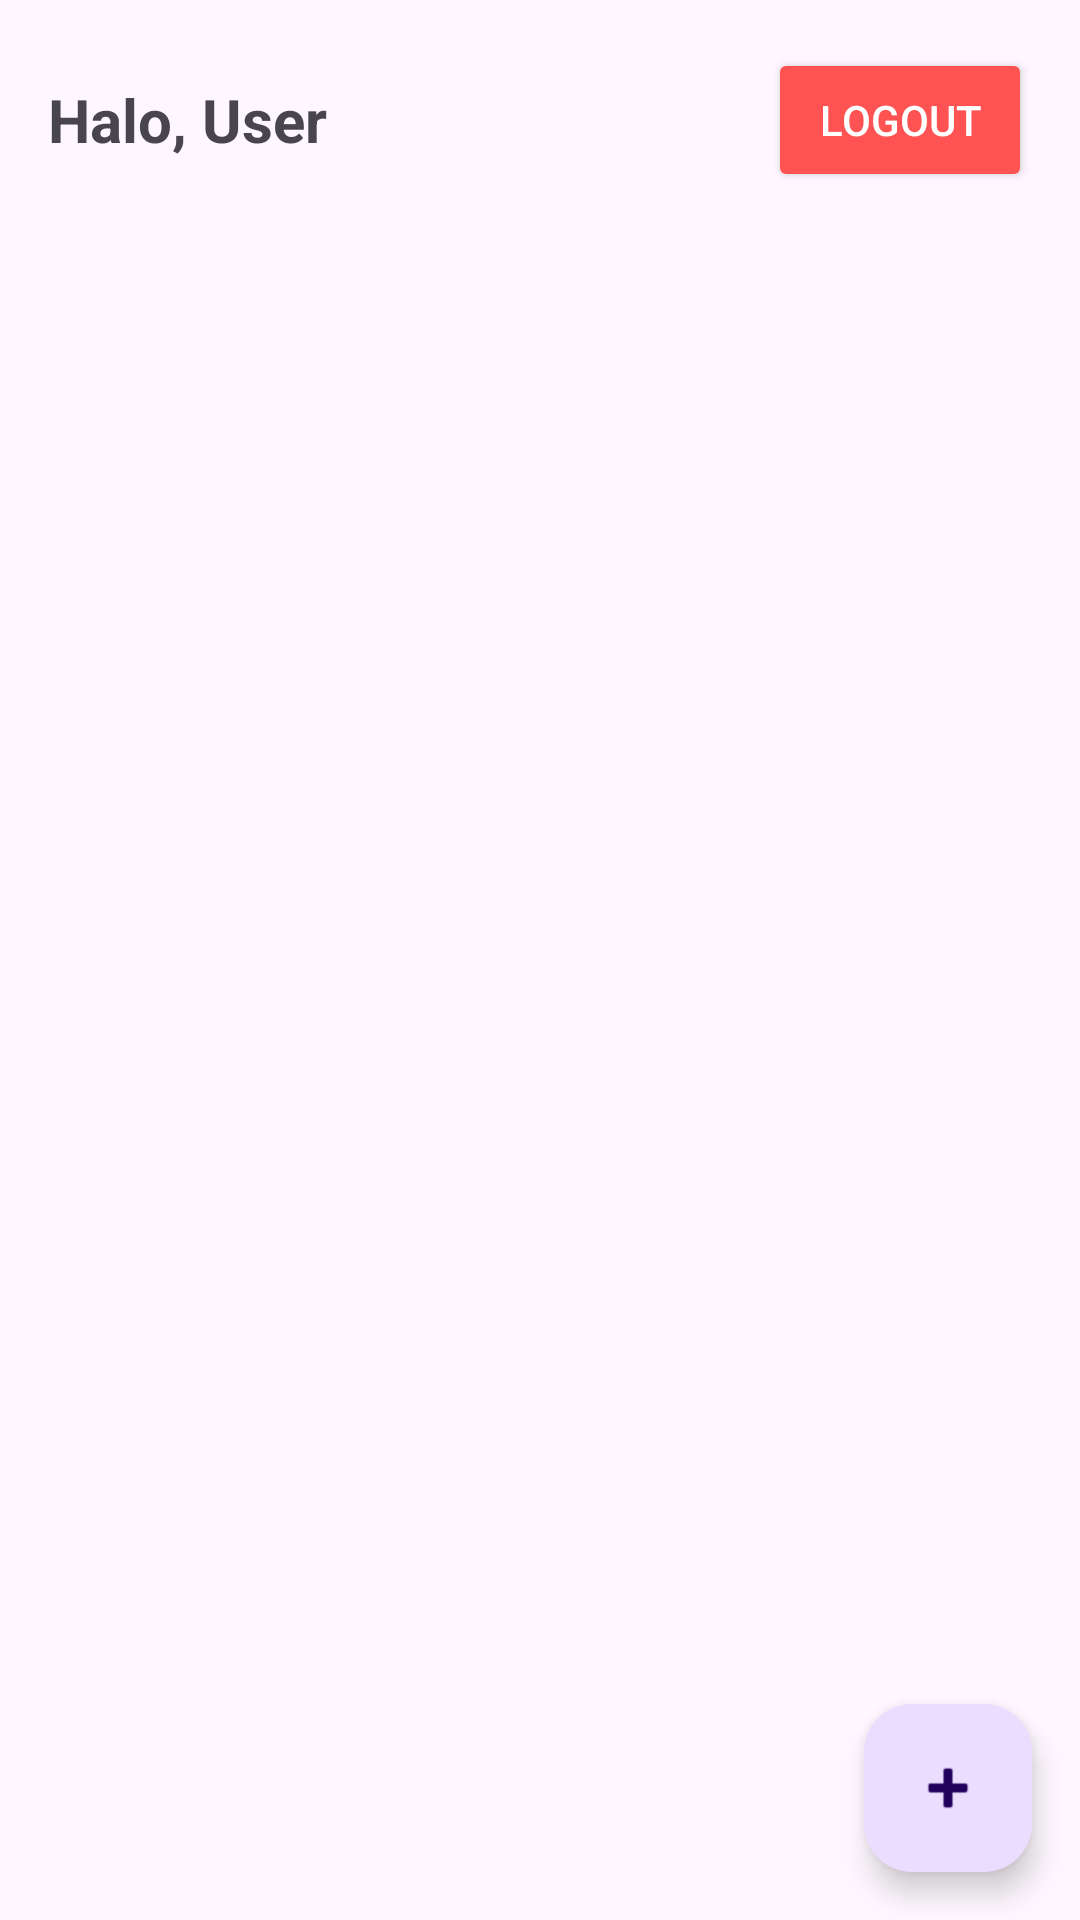

Point at icon controls on the screen. Image size 1080px×1920px, points as (x=x, y=y).
Tambah Pasien: (x=948, y=1788)
